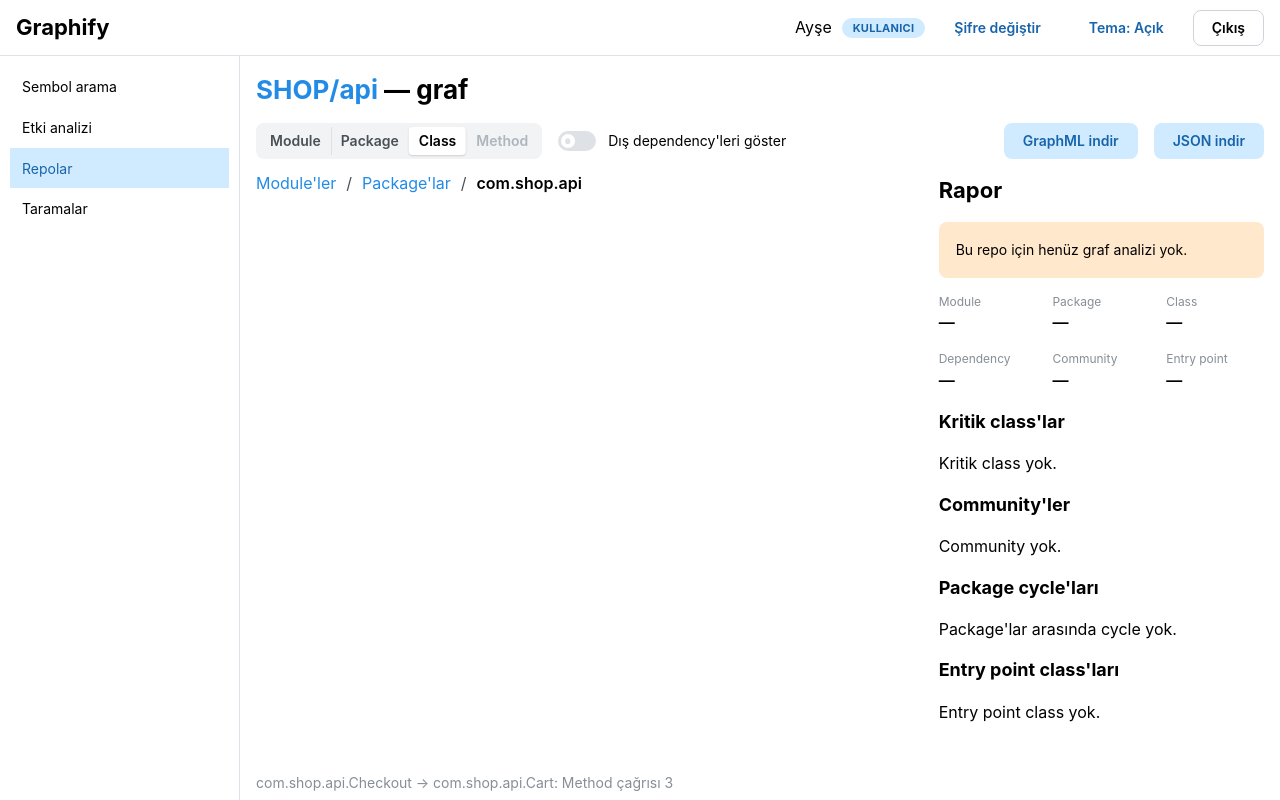
it: repository graph › a tapped edge caption is cleared when the graph changes
Expected: the text "com.shop.api.Checkout → com.shop.api.Cart: Method çağrısı 3" is shown, [256, 774, 673, 791]
Step 1. Click the radio button labelled "Module" → [295, 141], box [270, 132, 321, 149]
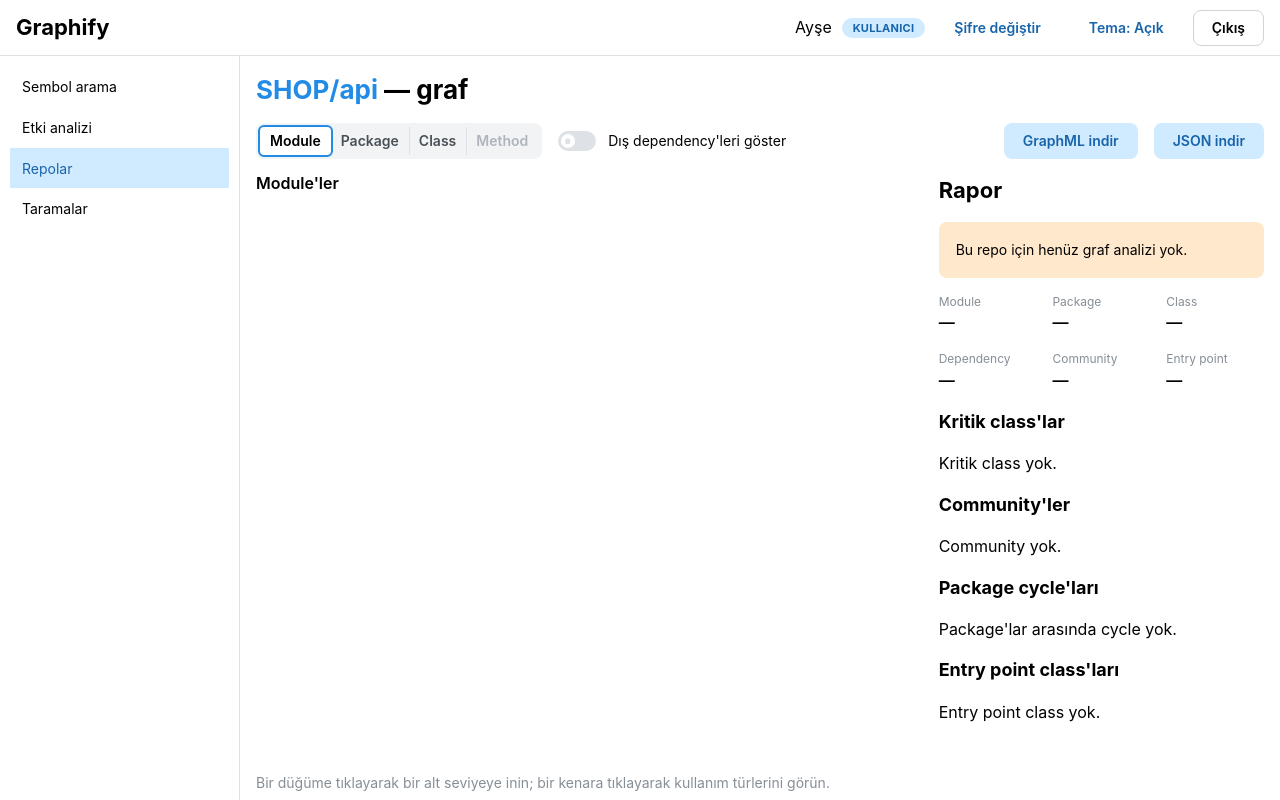
Expected: the text "Bir düğüme tıklayarak bir alt seviyeye inin; bir kenara tıklayarak kullanım türlerini görün." is shown, [256, 774, 830, 791]
